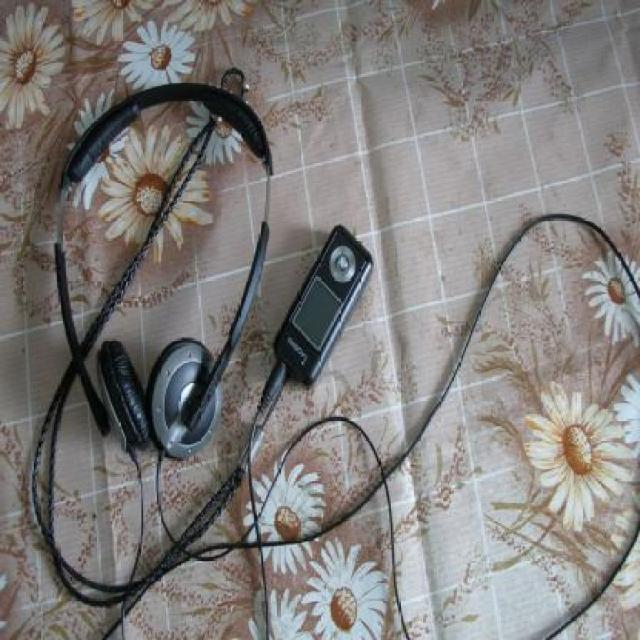earphone: (28, 47, 274, 483)
